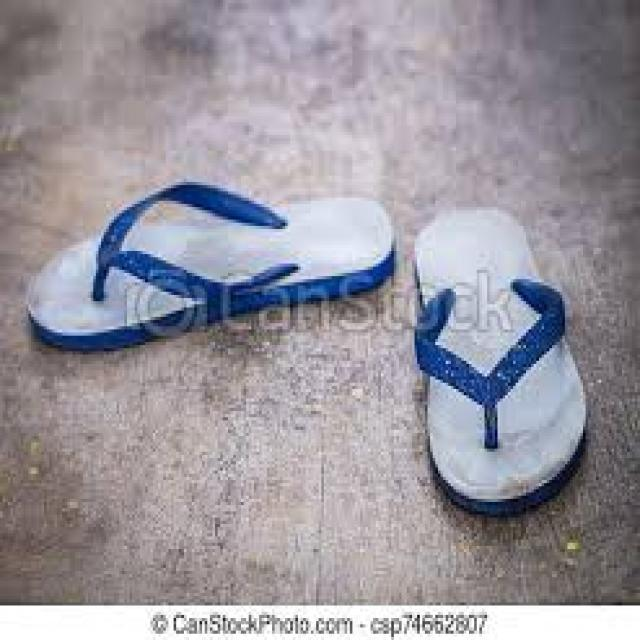other: (29, 185, 396, 350), (417, 210, 588, 516)
